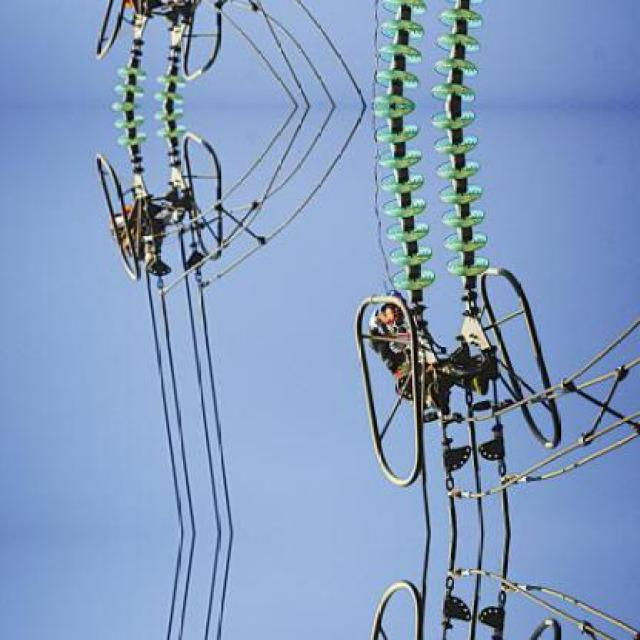helmet: (374, 284, 411, 322)
